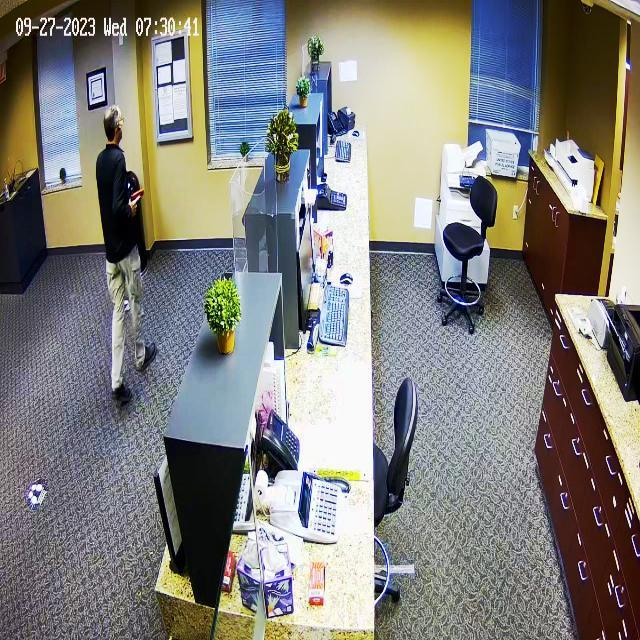Gun: (130, 183, 163, 215)
